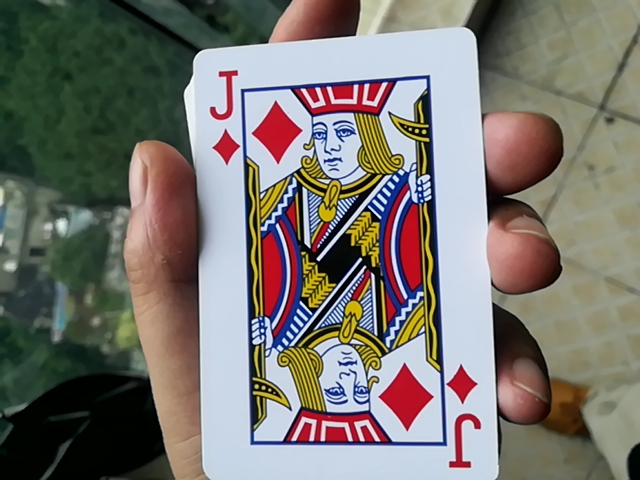fk j: (171, 36, 502, 478)
